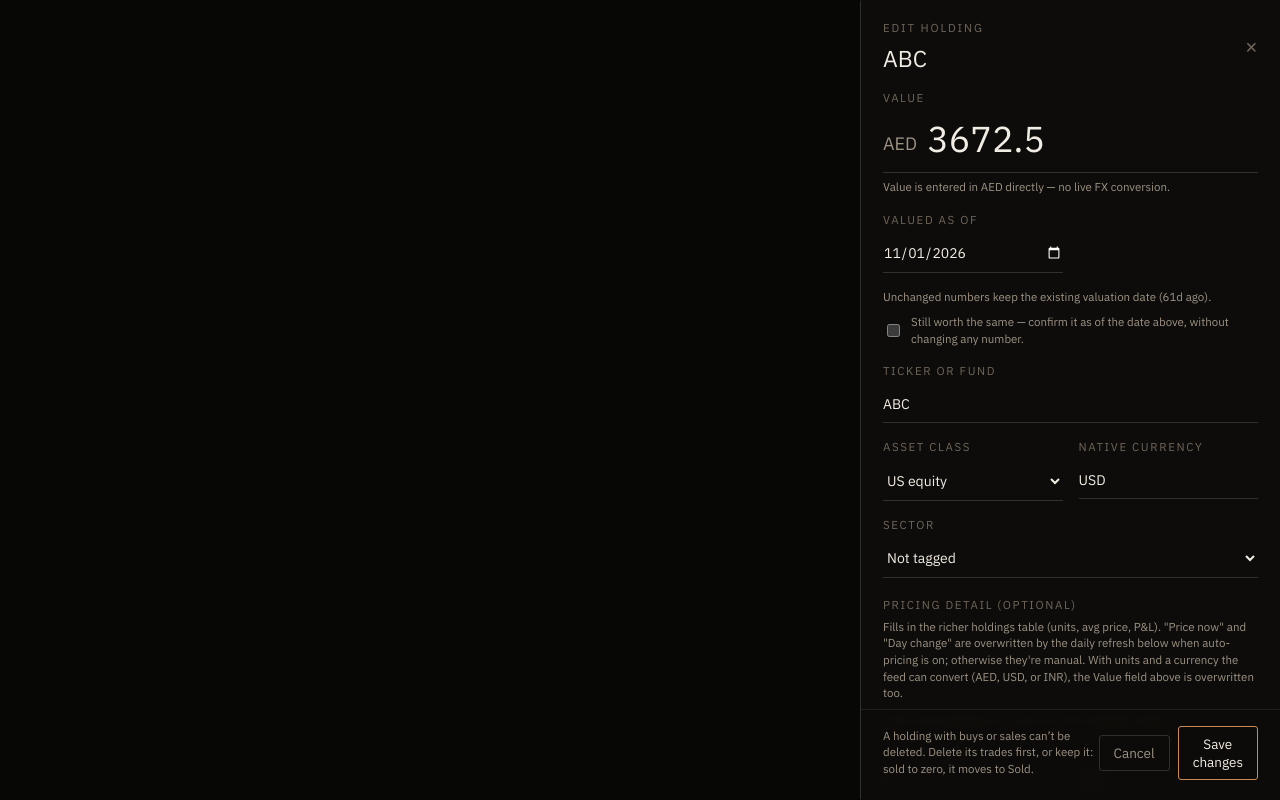
Scenario: a holding's trades › disables trade actions while the holding has unsaved changes
The width and height of the screenshot is (1280, 800).
Replace the text in the field with placeholder "e.g. VWRA" below "Ticker or fund" with "ABC renamed": point(1070, 404) x1=883 y1=386 x2=1258 y2=423
(page scrolled)
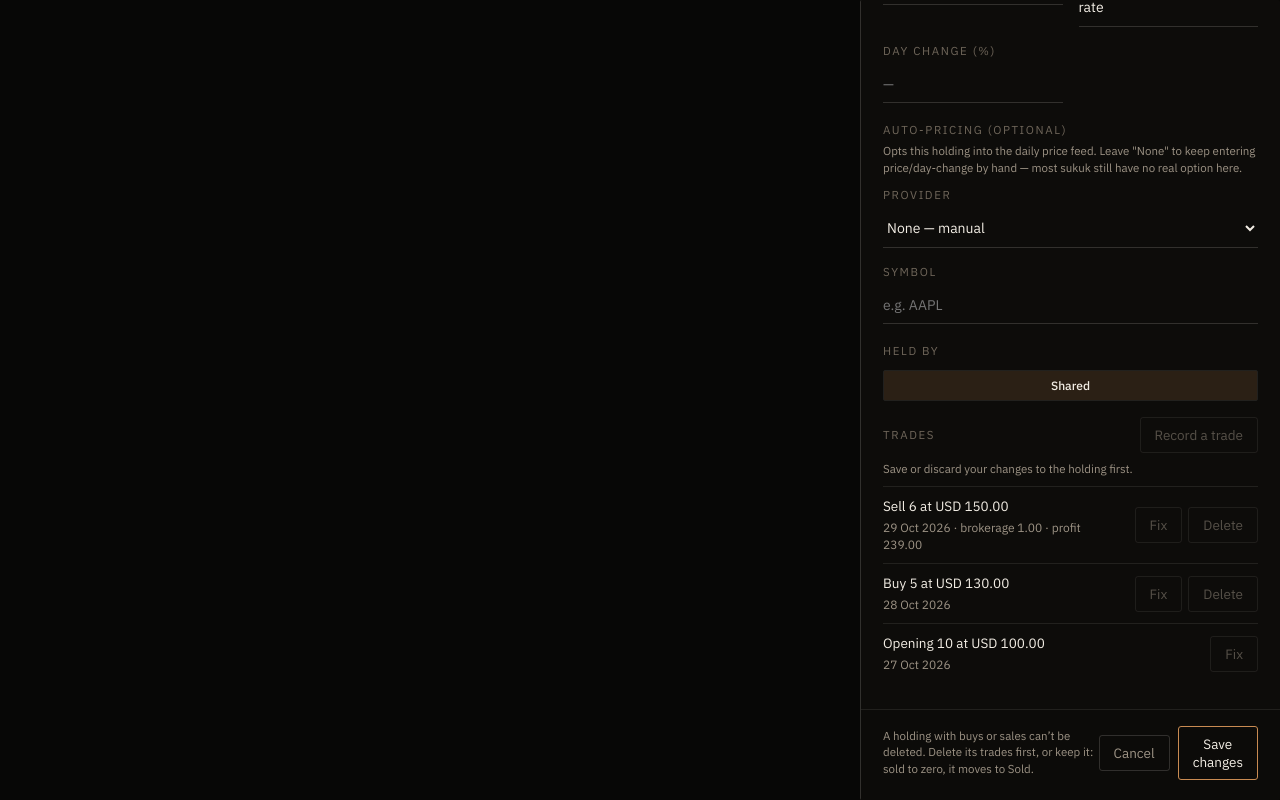
Check: the button "Record a trade" is disabled, box x1=1140 y1=417 x2=1258 y2=453
Check: the button "Fix" in the row of "Sell 6 at USD 150.00" is disabled, box x1=1135 y1=507 x2=1182 y2=543
Check: the button "Delete" in the row of "Sell 6 at USD 150.00" is disabled, box x1=1188 y1=507 x2=1258 y2=543
